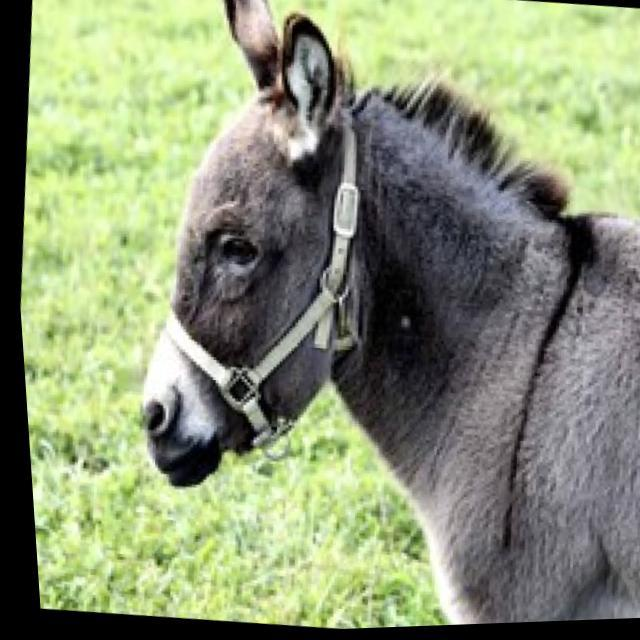Donkey: (53, 0, 640, 638)
